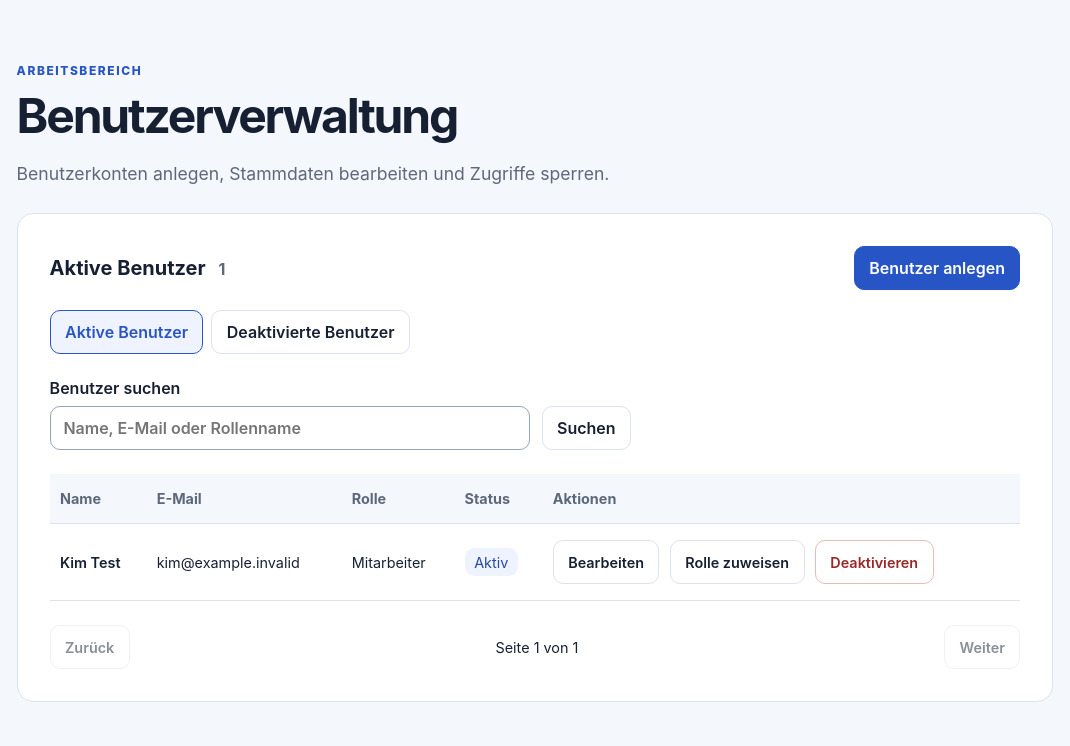
it: Benutzerverwaltung › zeigt den unvollständigen Auth-Ban als wiederholbaren Zustand
Expected: the text "kim@example.invalid" is shown, [146, 524, 341, 601]
Click the button "Deaktivieren" at (874, 562), box [815, 540, 934, 584]
(page scrolled)
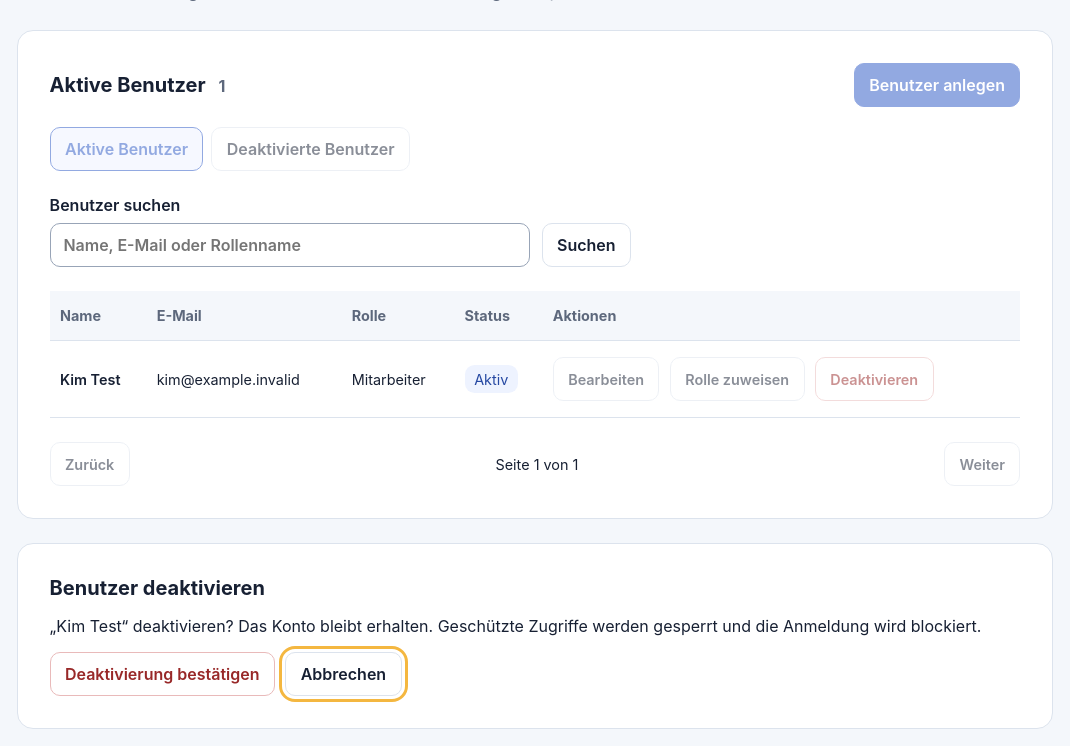
Click the button "Deaktivierung bestätigen" at (162, 674), box [50, 652, 275, 696]
(page scrolled)
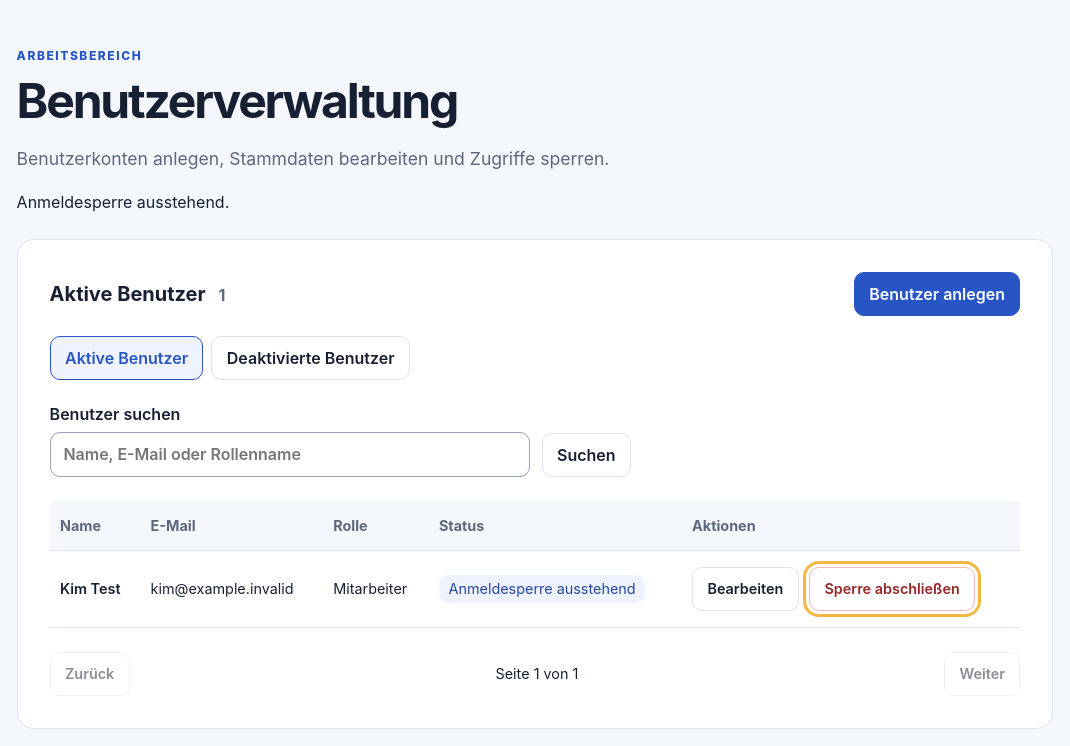
Result: the button "Sperre abschließen" is shown at [809, 567, 975, 611]
